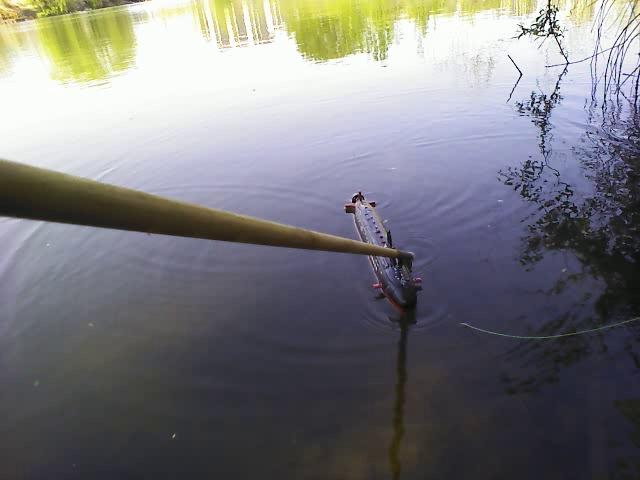submarine: (350, 193, 427, 306)
